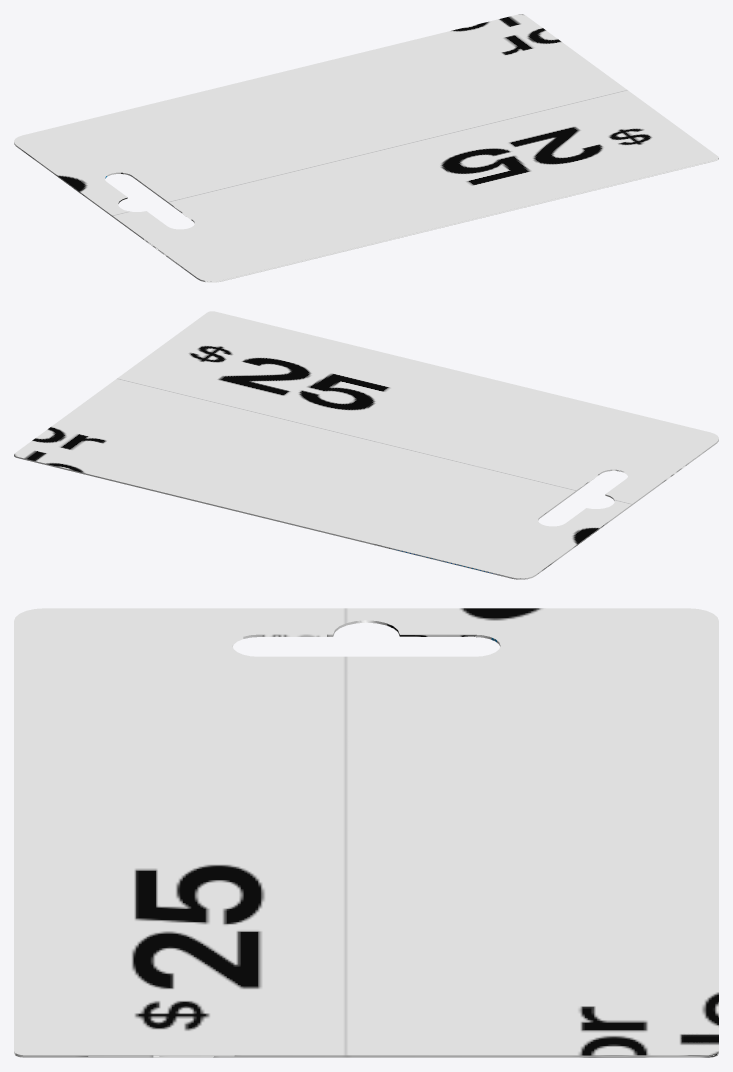
File: Gift_card.fbx
3 views of the same model, one above another, from view 1: azimuth 30°, elevation 25°; view 2: azimuth 150°, elevation 25°; view 3: azimuth 270°, elevation 25° (orthographic). The views are drawn at different scales.
Parts seen in each view (by area): view 1: Apple Gift Card 25$; view 2: Apple Gift Card 25$; view 3: Apple Gift Card 25$.
Boxes of the visible parts, bbox=[...] form: Apple Gift Card 25$: bbox=[14, 14, 718, 282]; Apple Gift Card 25$: bbox=[14, 311, 718, 579]; Apple Gift Card 25$: bbox=[14, 608, 718, 1057].
Size of the model in its own units: 12 by 0.03 by 8.
Materials: 1 (1 with a texture image).
